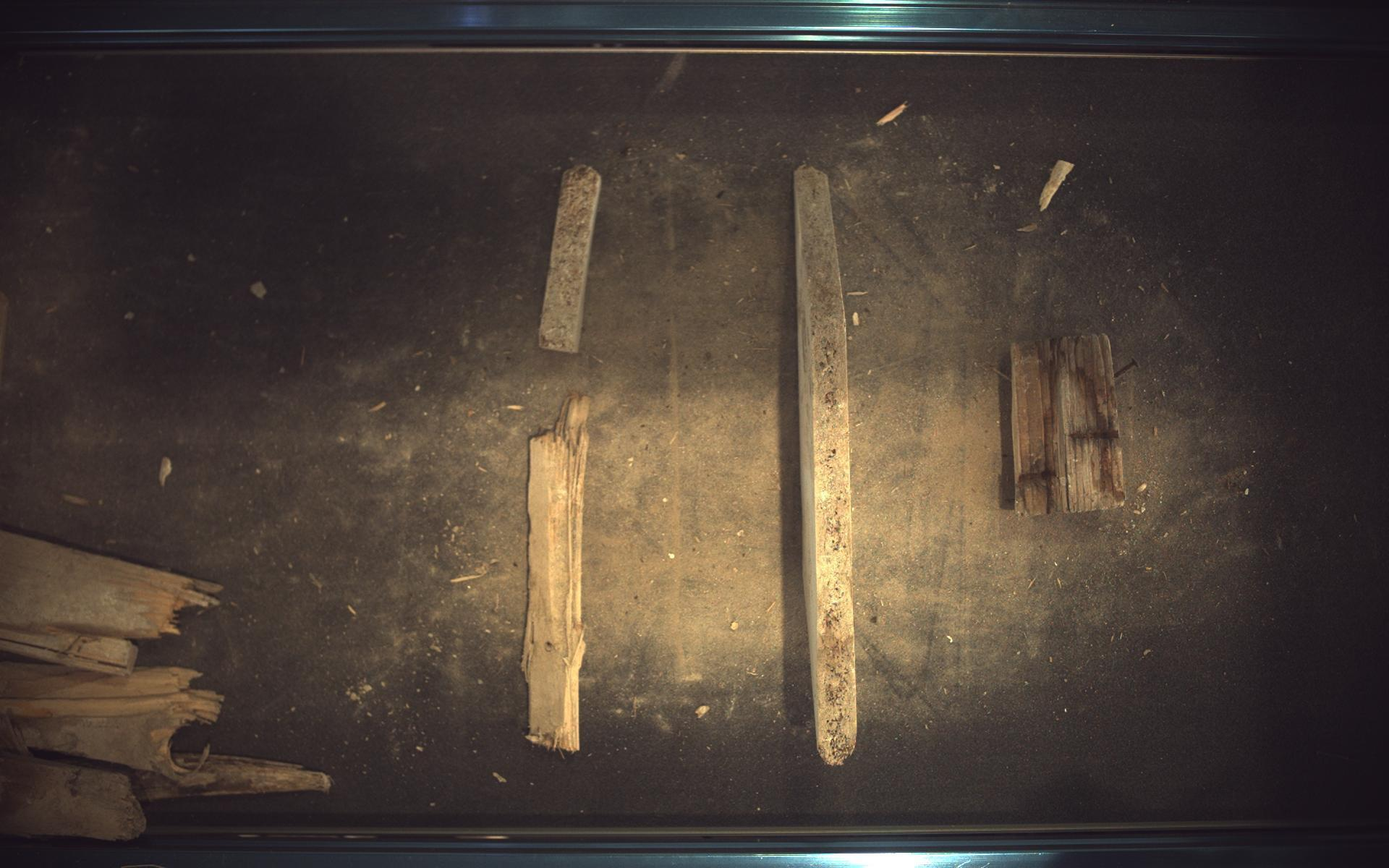wood: (1014, 334, 1127, 516)
